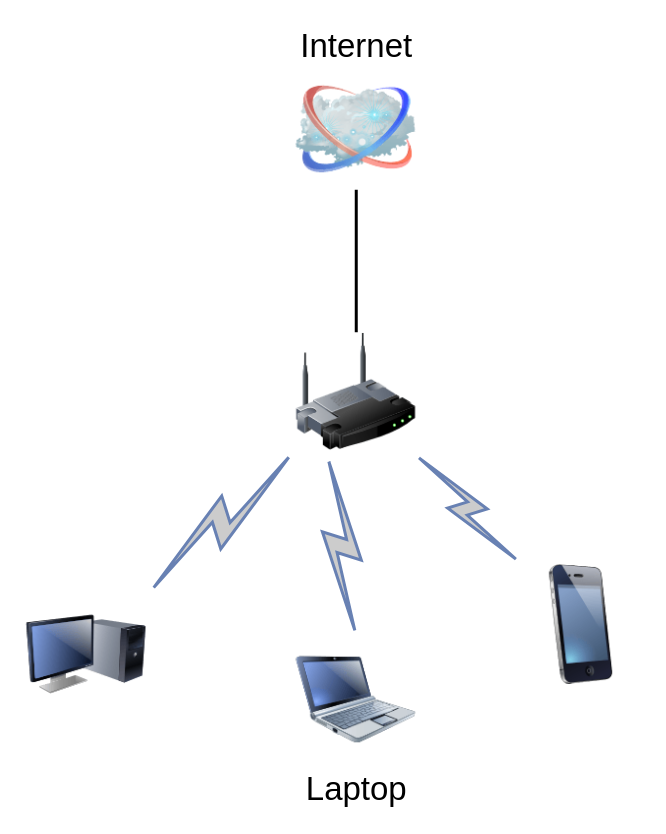
Some shapes in this 666 by 834 pixel diagram are drawn without their labels. Here are the shapes that lost their labels. From the top down, the centre of each, then its label:
point (580, 624): Mobile
point (86, 654): PC
